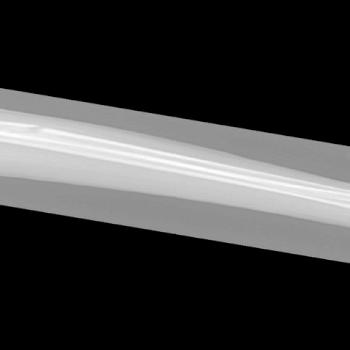Fracture: (10, 119, 56, 136)
